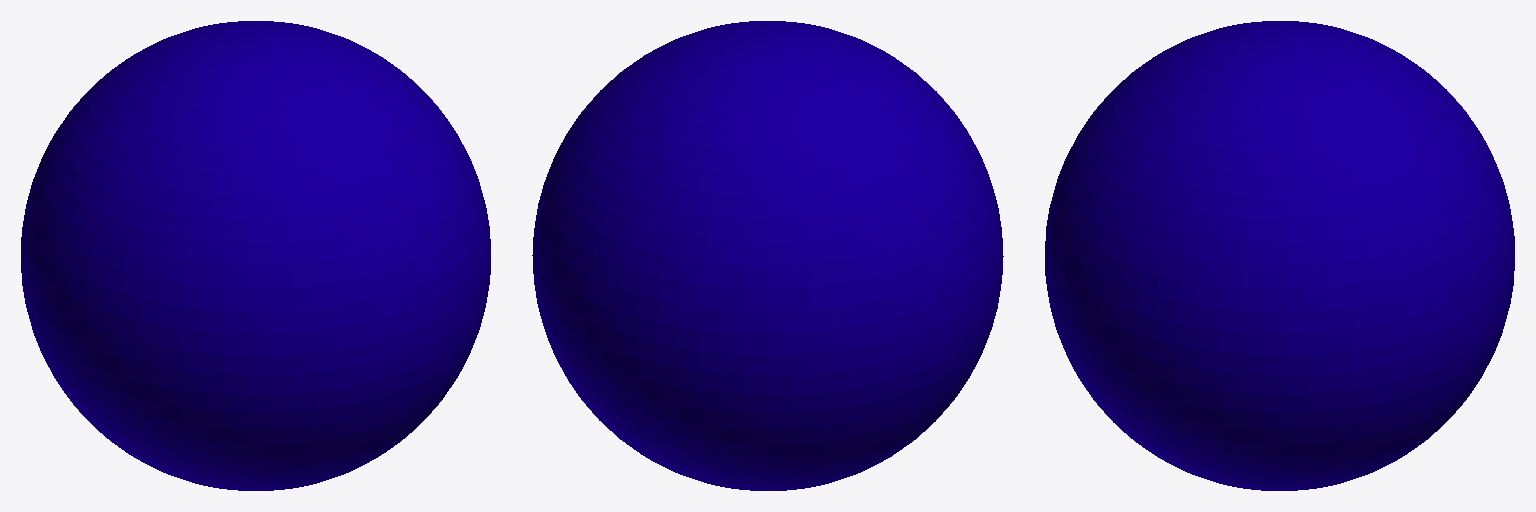
The model's file is planet.obj.
3 views of the same model, side by side, from view 1: azimuth 30°, elevation 25°; view 2: azimuth 150°, elevation 25°; view 3: azimuth 270°, elevation 25° (orthographic).
Parts seen in each view (by area): view 1: Sphere.001; view 2: Sphere.001; view 3: Sphere.001.
Part boxes in pixels (left/top/right/bottom): Sphere.001: left=21, top=21, right=490, bottom=490; Sphere.001: left=532, top=21, right=1003, bottom=490; Sphere.001: left=1045, top=21, right=1514, bottom=490.
Size of the model in its own units: 2.04 by 2.04 by 2.04.